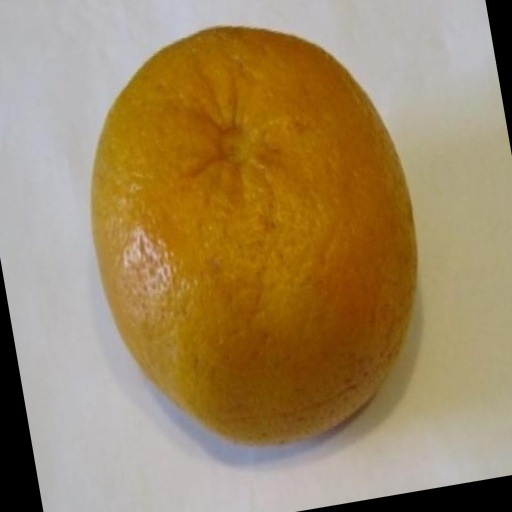fruit: (91, 28, 415, 443)
